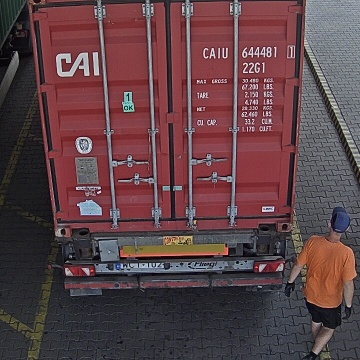serial_id: (203, 46, 295, 58)
